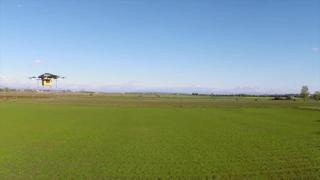UAV: (26, 73, 68, 88)
